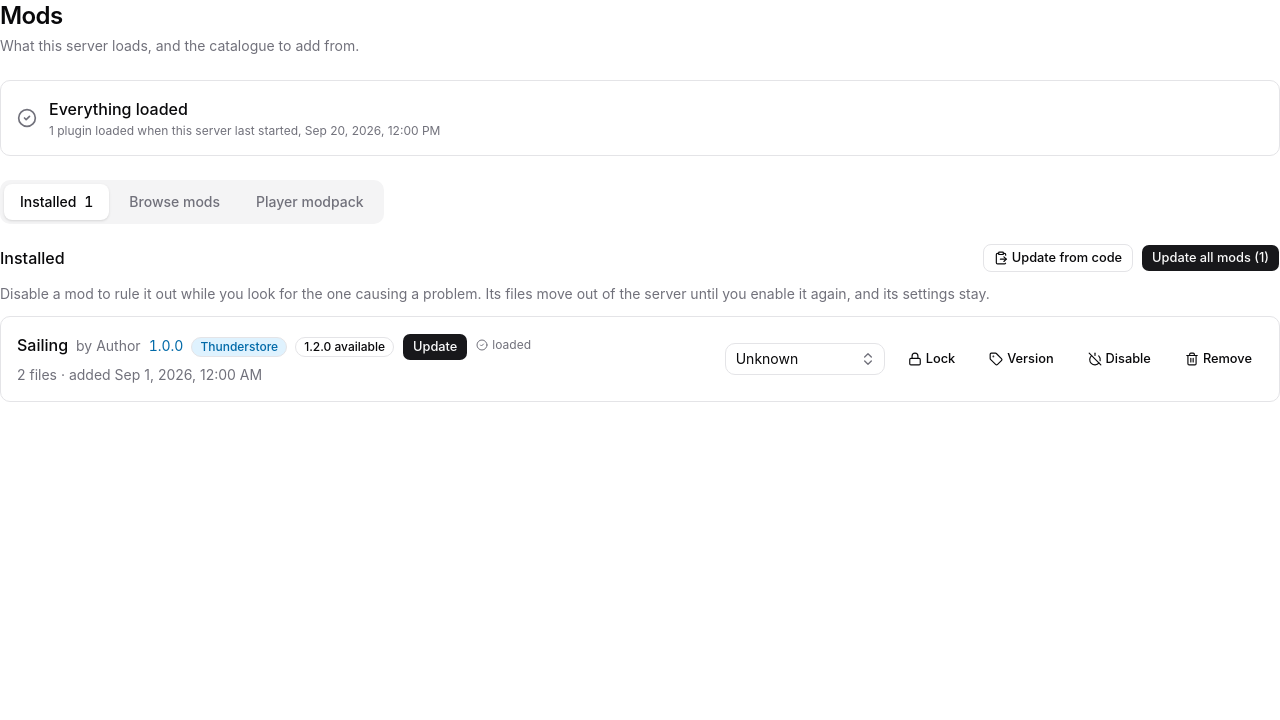
it: the mod screen › offers an update on the installed row when the daemon knows a newer version
Expected: the text "1.2.0 available" is shown, [295,337,394,357]
Click the button "Update". click: (435, 347)
box: [402,333,468,361]
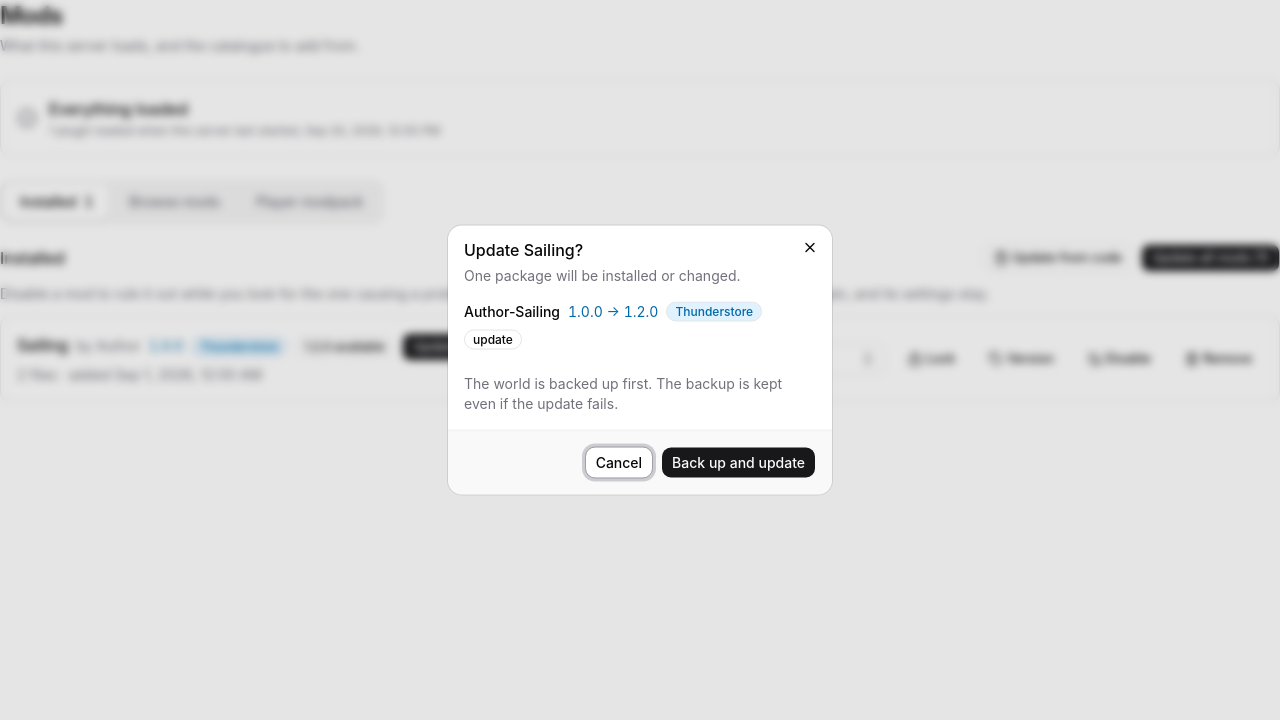
Now the dialog shows "Update Sailing?", box [464,240,583,260]
Now the dialog shows "1.0.0 → 1.2.0", box [568,302,658,320]
Now the dialog shows "The world is backed up first.", box [464,374,782,412]
